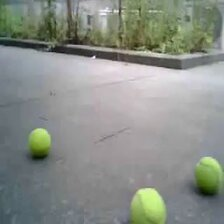tennis: (128, 186, 165, 224), (193, 156, 224, 193), (27, 129, 51, 158)
